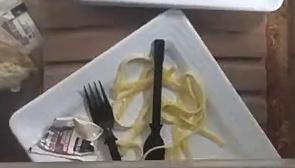pasta: (160, 63, 208, 159), (110, 57, 154, 160)
